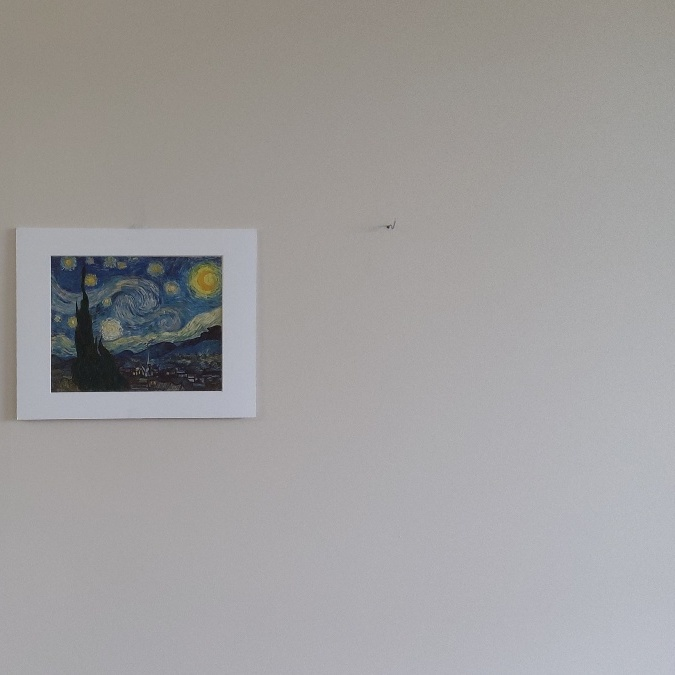painting: (40, 246, 238, 397)
